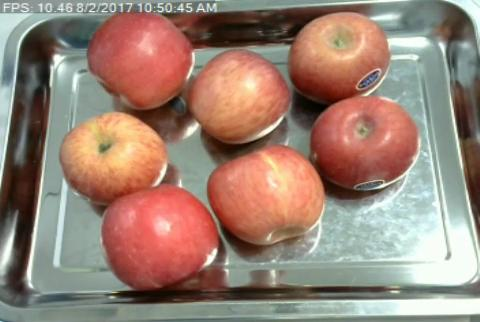apple: (100, 185, 218, 291), (207, 145, 325, 245), (310, 98, 421, 191), (87, 13, 194, 109), (59, 111, 166, 200), (191, 49, 289, 143), (289, 12, 390, 99)
